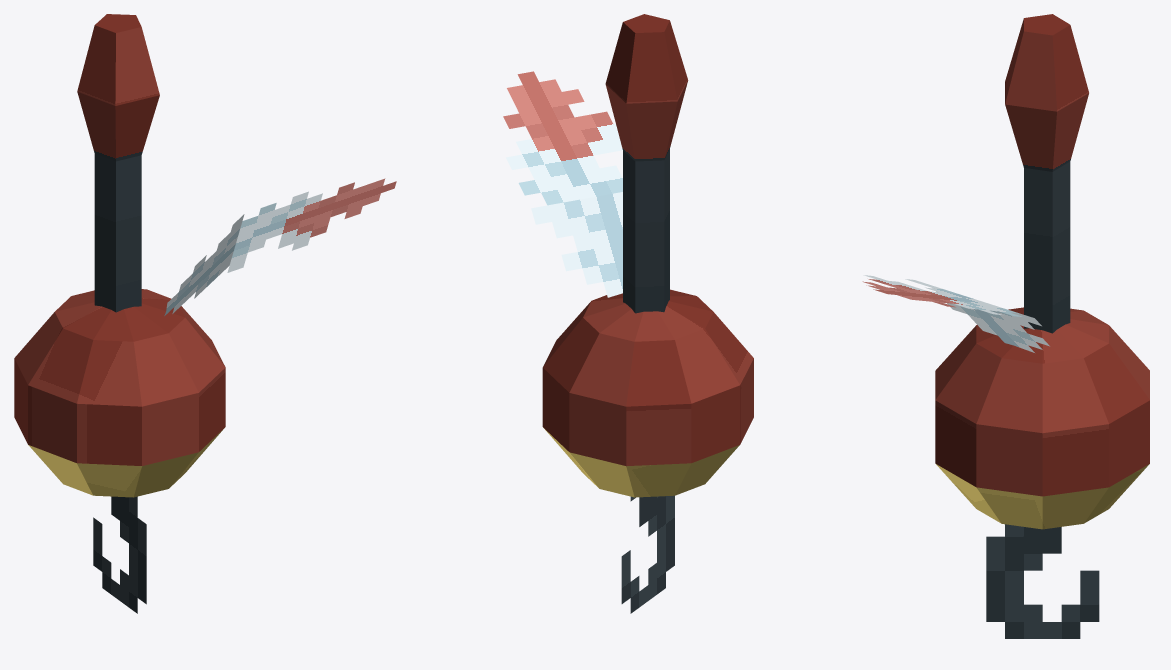
Rendered from Fishing_Bobber.fbx.
The picture shows the model from 3 angles, left to right: view 1: azimuth 30°, elevation 25°; view 2: azimuth 150°, elevation 25°; view 3: azimuth 270°, elevation 25°; orthographic projection. The views are drawn at different scales.
Parts seen in each view (by area): view 1: Bobber, Hook&Feather; view 2: Bobber, Hook&Feather; view 3: Bobber, Hook&Feather.
Boxes of the visible parts, bbox=[...] form: Bobber: bbox=[14, 14, 225, 497]; Hook&Feather: bbox=[93, 178, 396, 613]; Bobber: bbox=[542, 14, 753, 497]; Hook&Feather: bbox=[503, 71, 674, 613]; Bobber: bbox=[935, 14, 1149, 529]; Hook&Feather: bbox=[862, 275, 1099, 638].
Bounding box in the file's own units: 34.85 × 57.81 × 31.09.
Materials: 2 (2 with a texture image).
